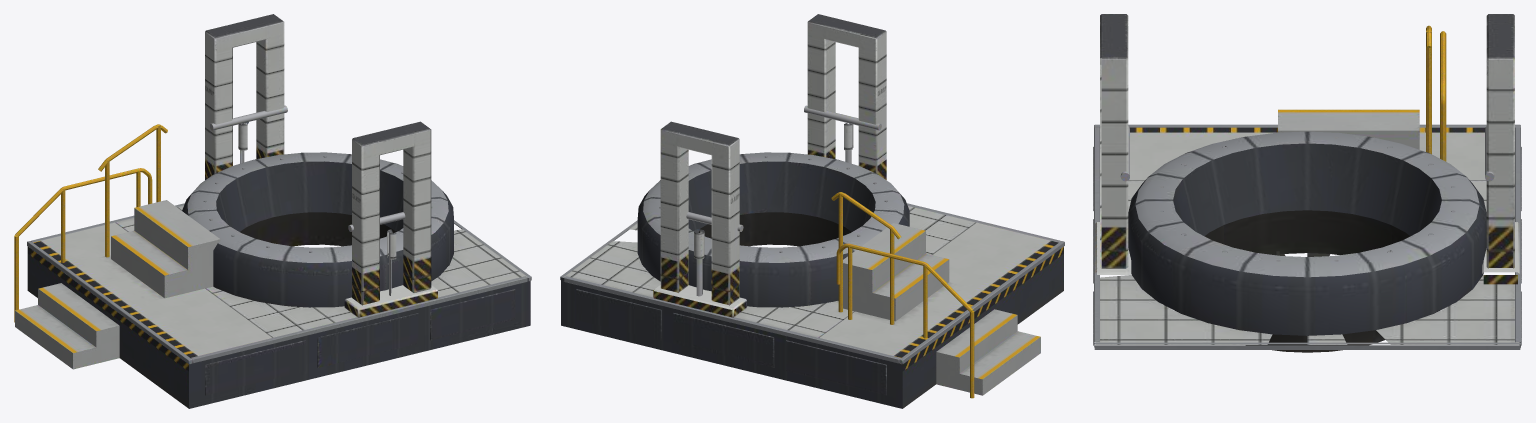
Rendered from cradle.glb.
The picture shows the model from 3 angles, left to right: view 1: azimuth 30°, elevation 25°; view 2: azimuth 150°, elevation 25°; view 3: azimuth 270°, elevation 25°; orthographic projection. The views are drawn at different scales.
Parts seen in each view (by area): view 1: GEO_S1_PodCradleFrame_001, GEO_S1_PodCradle_001; view 2: GEO_S1_PodCradleFrame_001, GEO_S1_PodCradle_001; view 3: GEO_S1_PodCradleFrame_001, GEO_S1_PodCradle_001.
Boxes of the visible parts, box(x1,y1,x2,y2) form: GEO_S1_PodCradleFrame_001: box(31, 14, 531, 408); GEO_S1_PodCradle_001: box(14, 105, 405, 408); GEO_S1_PodCradleFrame_001: box(560, 14, 1060, 408); GEO_S1_PodCradle_001: box(686, 105, 1064, 408); GEO_S1_PodCradleFrame_001: box(1093, 14, 1521, 352); GEO_S1_PodCradle_001: box(1094, 25, 1520, 181).
Size of the model in its own units: 5.01 by 2.7 by 3.63.
2 materials, 2 textured.
